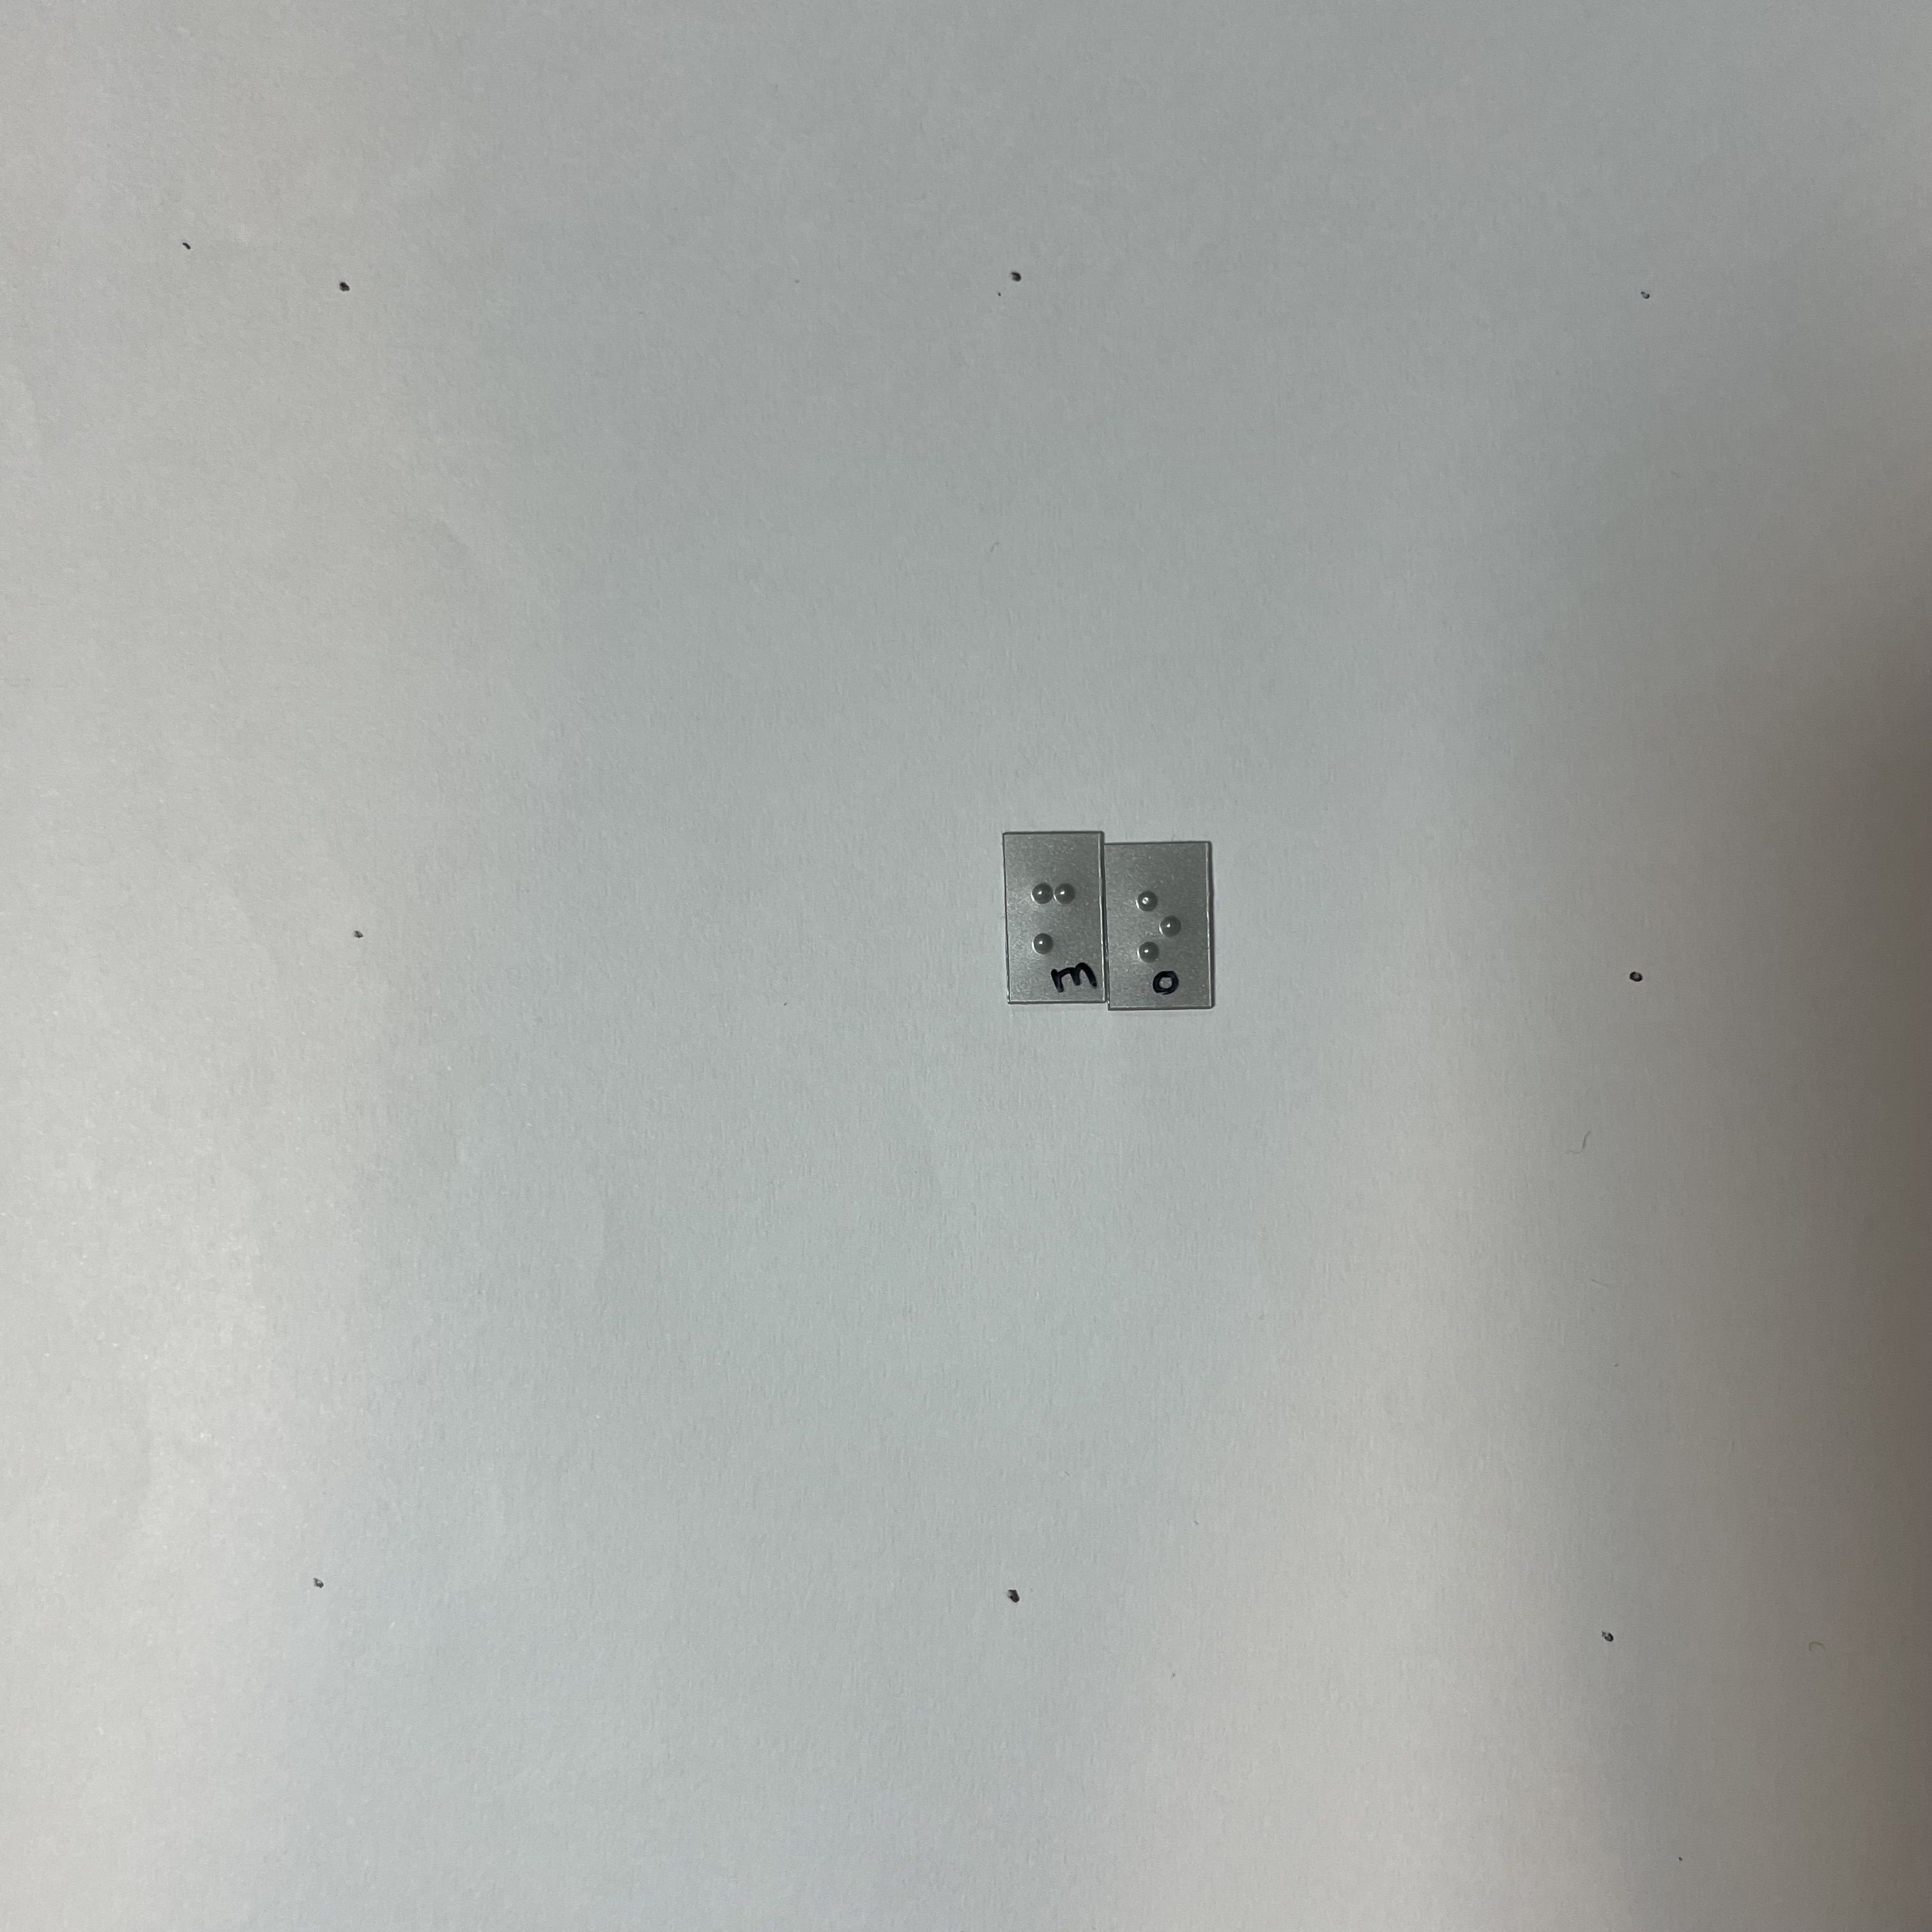m: (1023, 868, 1082, 958)
o: (1131, 881, 1183, 965)
